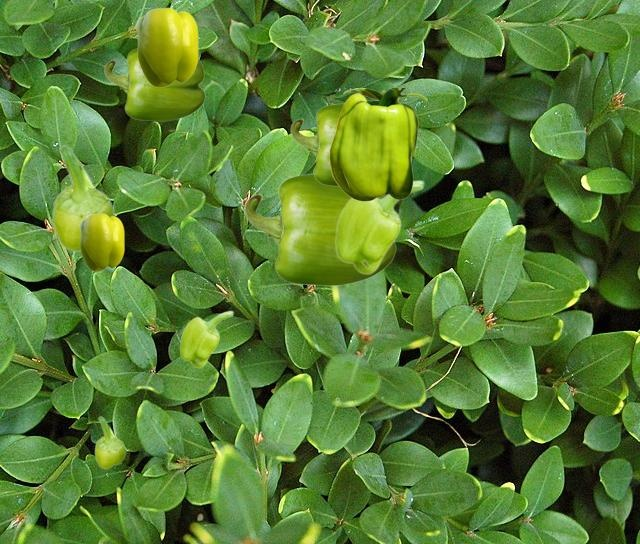bell_pepper: (244, 173, 395, 285), (329, 88, 426, 200), (334, 179, 424, 274), (104, 48, 204, 120), (51, 145, 115, 251), (136, 7, 197, 86), (290, 103, 342, 186), (179, 310, 233, 367), (79, 213, 123, 270), (94, 416, 125, 468)
